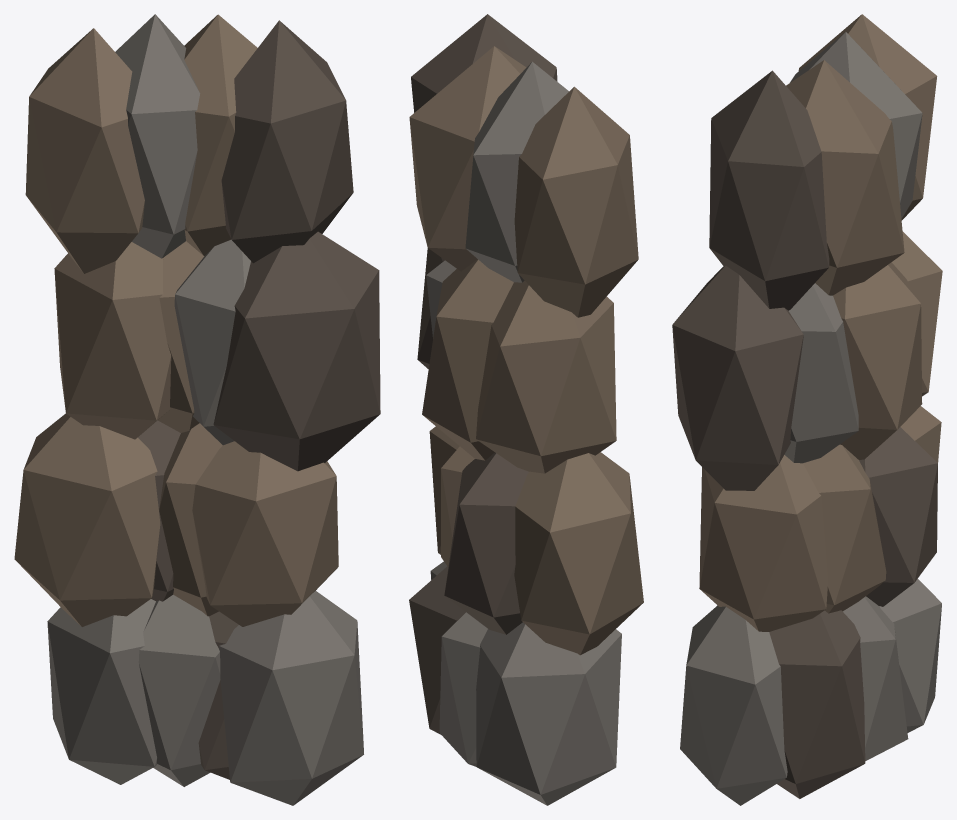
The model's file is mine_wall_corner_round.glb.
The picture shows the model from 3 angles, left to right: view 1: azimuth 30°, elevation 25°; view 2: azimuth 150°, elevation 25°; view 3: azimuth 270°, elevation 25°; orthographic projection. The views are drawn at different scales.
Parts seen in each view (by area): view 1: mine_wall_corner_round; view 2: mine_wall_corner_round; view 3: mine_wall_corner_round.
Boxes of the visible parts, <box> form: mine_wall_corner_round: <box>14,14,380,805</box>; mine_wall_corner_round: <box>409,14,643,805</box>; mine_wall_corner_round: <box>672,14,942,805</box>.
Size of what is drawn, in the model's own units: 1.61 by 4.19 by 1.4.
